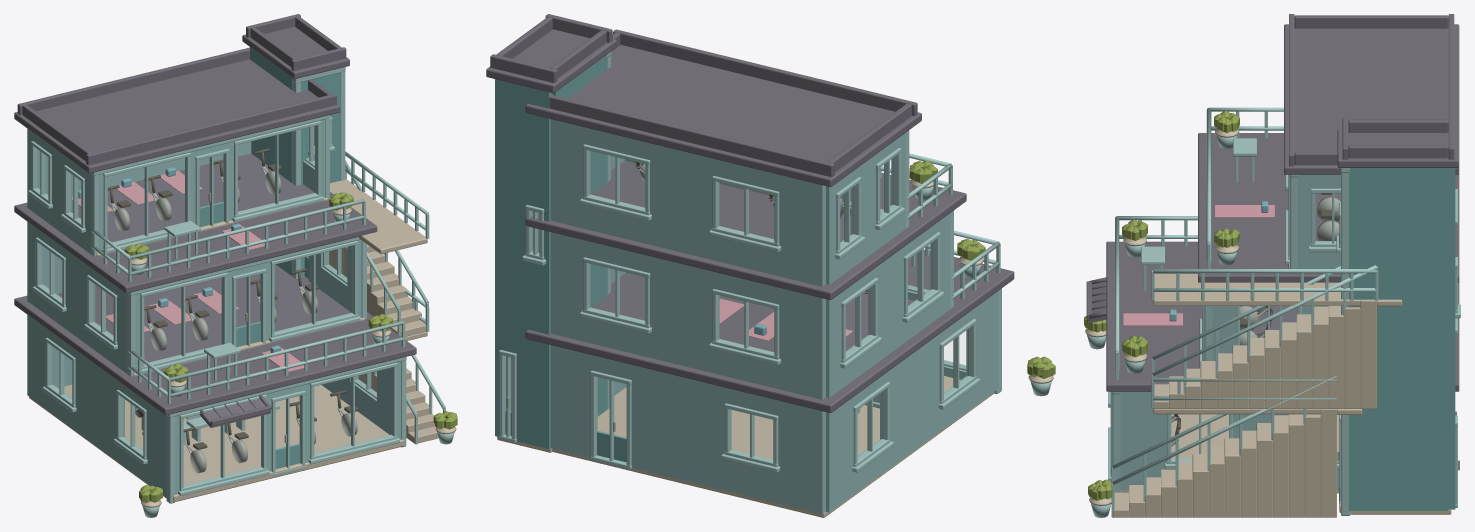
The picture shows the model from 3 angles, left to right: view 1: azimuth 30°, elevation 25°; view 2: azimuth 150°, elevation 25°; view 3: azimuth 270°, elevation 25°; orthographic projection. The views are drawn at different scales.
Parts seen in each view (by area): view 1: SM_04_02_曲面屋顶, SM_04_04_门窗楼梯, SM_04_01_建筑墙体, SM_04_06_景观设施, SM_04_03_木构回廊, SM_04_05_景观植物; view 2: SM_04_01_建筑墙体, SM_04_02_曲面屋顶, SM_04_04_门窗楼梯, SM_04_05_景观植物, SM_04_03_木构回廊, SM_04_06_景观设施; view 3: SM_04_04_门窗楼梯, SM_04_02_曲面屋顶, SM_04_01_建筑墙体, SM_04_06_景观设施, SM_04_05_景观植物, SM_04_03_木构回廊.
Boxes of the visible parts, x1=… form: SM_04_02_曲面屋顶: x1=14, y1=14, x2=416, y2=427; SM_04_04_门窗楼梯: x1=28, y1=117, x2=445, y2=495; SM_04_01_建筑墙体: x1=27, y1=47, x2=404, y2=502; SM_04_06_景观设施: x1=72, y1=148, x2=358, y2=473; SM_04_03_木构回廊: x1=90, y1=67, x2=406, y2=503; SM_04_05_景观植物: x1=125, y1=192, x2=457, y2=517; SM_04_01_建筑墙体: x1=495, y1=54, x2=998, y2=517; SM_04_02_曲面屋顶: x1=486, y1=14, x2=1014, y2=412; SM_04_04_门窗楼梯: x1=499, y1=144, x2=1000, y2=472; SM_04_05_景观植物: x1=909, y1=160, x2=1055, y2=396; SM_04_03_木构回廊: x1=607, y1=51, x2=1001, y2=408; SM_04_06_景观设施: x1=635, y1=162, x2=915, y2=413; SM_04_04_门窗楼梯: x1=1108, y1=107, x2=1460, y2=517; SM_04_02_曲面屋顶: x1=1086, y1=14, x2=1459, y2=391; SM_04_01_建筑墙体: x1=1111, y1=168, x2=1455, y2=514; SM_04_06_景观设施: x1=1123, y1=138, x2=1340, y2=446; SM_04_05_景观植物: x1=1084, y1=110, x2=1239, y2=517; SM_04_03_木构回廊: x1=1112, y1=168, x2=1350, y2=515.
Size of the model in its own units: 10.72 by 10.2 by 9.44.
